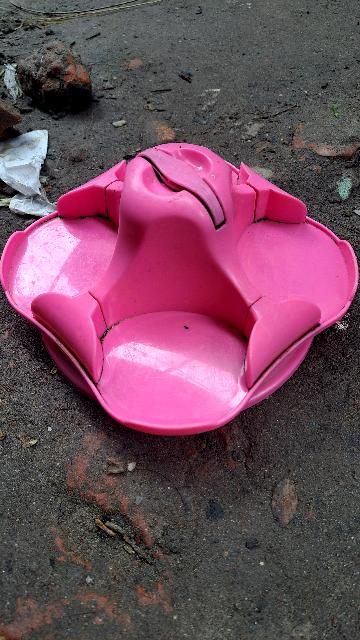hardplastic: (8, 141, 358, 436)
